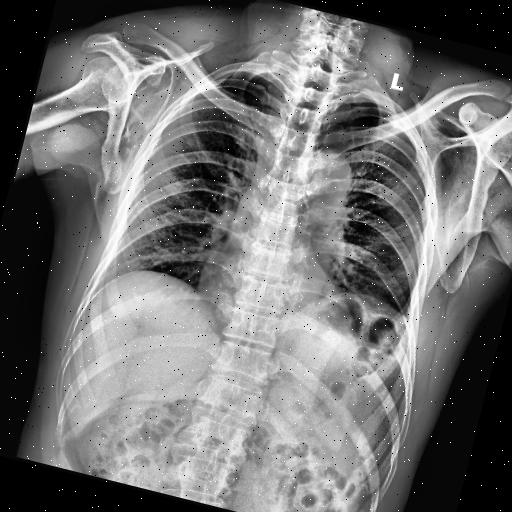0- Aortic enlargement: (282, 138, 363, 228), (288, 141, 362, 213), (290, 142, 356, 216)
